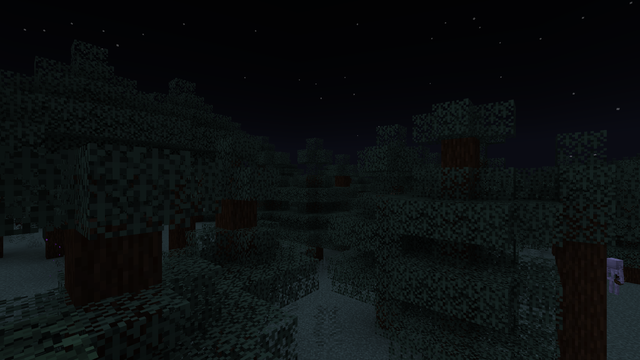squelettes: (606, 257, 622, 296)
